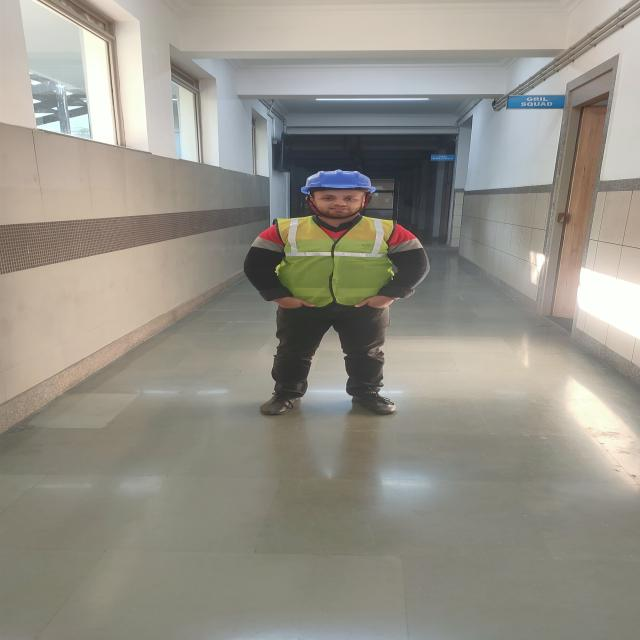safe: (243, 170, 432, 416)
